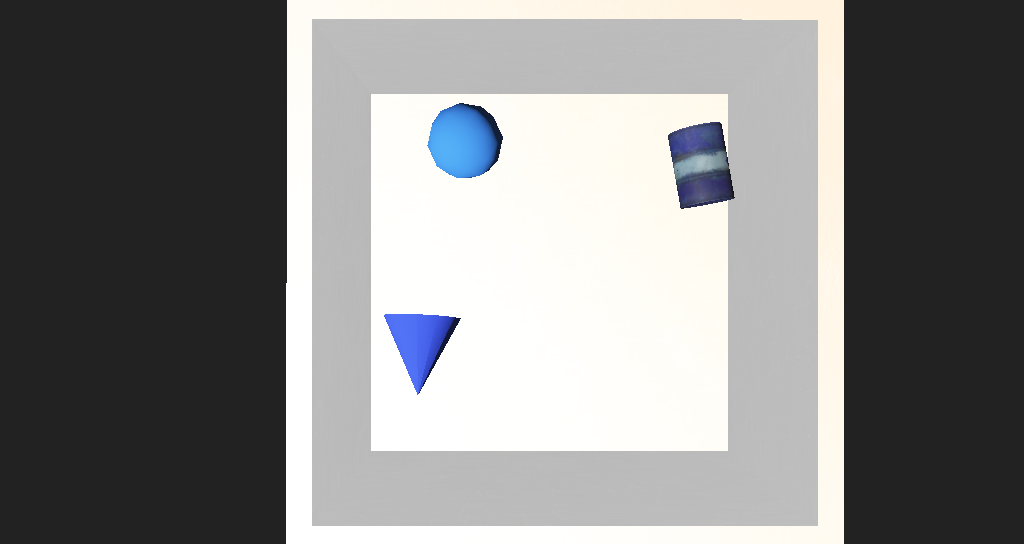cone: (600, 179, 667, 231)
cylinder: (344, 289, 438, 351)
sphere: (408, 167, 468, 215)
